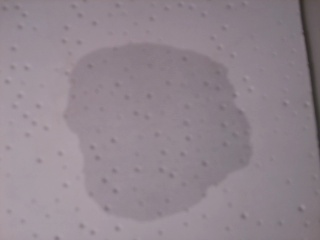Water_detected: (84, 61, 224, 199)
